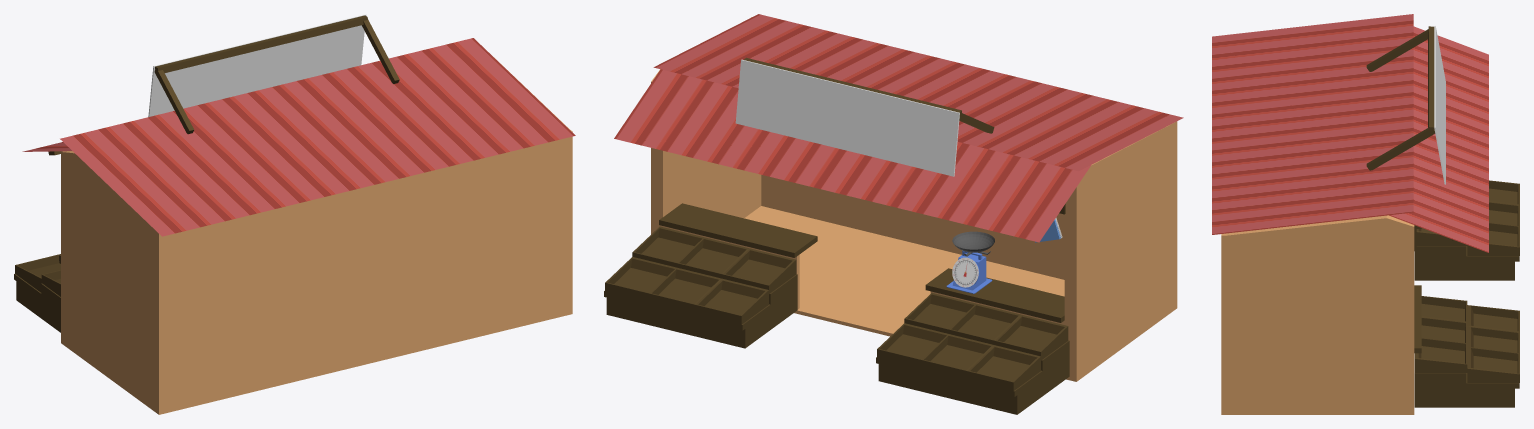
File: prutasanlabas2.fbx
3 views of the same model, side by side, from view 1: azimuth 30°, elevation 25°; view 2: azimuth 150°, elevation 25°; view 3: azimuth 270°, elevation 25° (orthographic). The views are drawn at different scales.
Visible parts, largest first — view 1: prutasanlabas, Plane, stallname, Cube.498, LongTable1.001, Cube.499, Cube.001; view 2: prutasanlabas, Plane.001, Plane, stallname, Cube.671, Cube.001, Plane.043, LongTable1.012, LongTable1.001, Cube.498, Sphere.104, Cylinder.072 (+1 smaller); view 3: Plane, prutasanlabas, Plane.001, Cube.671, LongTable1.012, LongTable1.001, Cube.001, stallname, Cube.499, Cube.498, Plane.043.
Boxes of the visible parts, <box> form: prutasanlabas: <box>61,57,572,414</box>; Plane: <box>60,38,575,236</box>; stallname: <box>148,14,366,116</box>; Cube.498: <box>155,15,367,72</box>; LongTable1.001: <box>14,274,60,332</box>; Cube.499: <box>154,19,399,134</box>; Cube.001: <box>15,254,60,296</box>; prutasanlabas: <box>651,17,1177,381</box>; Plane.001: <box>614,69,1091,242</box>; Plane: <box>653,14,1183,171</box>; stallname: <box>735,59,959,176</box>; Cube.671: <box>605,226,796,324</box>; Cube.001: <box>877,293,1068,391</box>; Plane.043: <box>659,203,1064,322</box>; LongTable1.012: <box>604,274,797,348</box>; LongTable1.001: <box>876,340,1069,414</box>; Cube.498: <box>744,57,961,112</box>; Sphere.104: <box>952,231,994,252</box>; Cylinder.072: <box>952,257,979,287</box>; Plane: <box>1212,14,1413,234</box>; prutasanlabas: <box>1221,215,1414,414</box>; Plane.001: <box>1389,26,1488,252</box>; Cube.671: <box>1415,296,1519,382</box>; LongTable1.012: <box>1414,353,1519,407</box>; LongTable1.001: <box>1414,246,1519,280</box>; Cube.001: <box>1416,180,1519,255</box>; stallname: <box>1434,26,1445,184</box>; Cube.499: <box>1366,29,1435,170</box>; Cube.498: <box>1428,26,1434,129</box>; Plane.043: <box>1414,226,1421,353</box>.
Size of the model in its own units: 10.95 by 6.15 by 7.14.
Materials: 12 (2 with a texture image).
